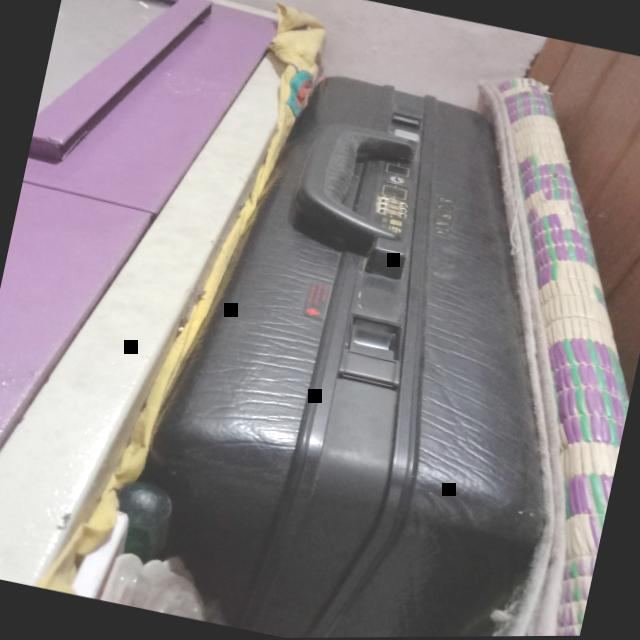luggage: (121, 36, 638, 639)
